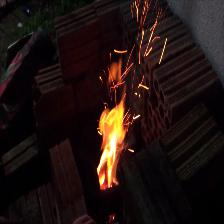fire: (92, 37, 157, 198)
